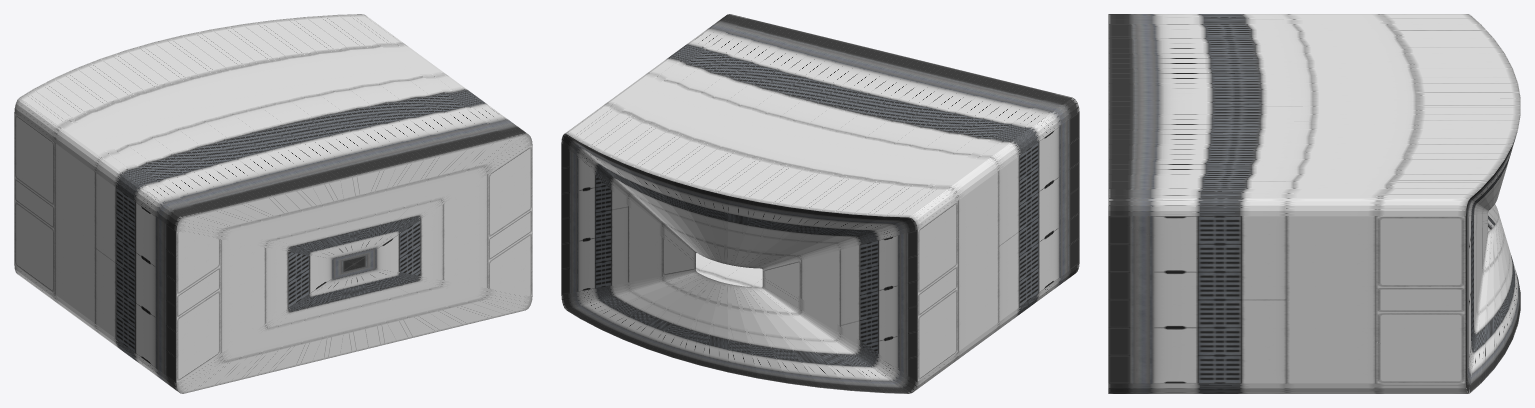
The model's file is blackoutBox.fbx.
The picture shows the model from 3 angles, left to right: view 1: azimuth 30°, elevation 25°; view 2: azimuth 150°, elevation 25°; view 3: azimuth 270°, elevation 25°; orthographic projection. The views are drawn at different scales.
Visible parts, largest first — view 1: blackoutBox; view 2: blackoutBox; view 3: blackoutBox.
Part boxes in pixels (<box>): blackoutBox: <box>14,14,532,393</box>; blackoutBox: <box>561,14,1079,393</box>; blackoutBox: <box>1108,14,1520,393</box>.
Bounding box in the file's own units: 2888 × 1367 × 2624.
